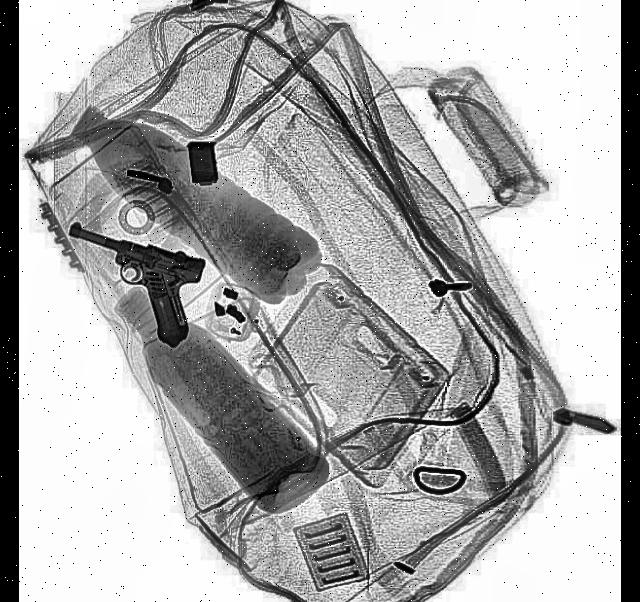Gun: (50, 211, 212, 353)
